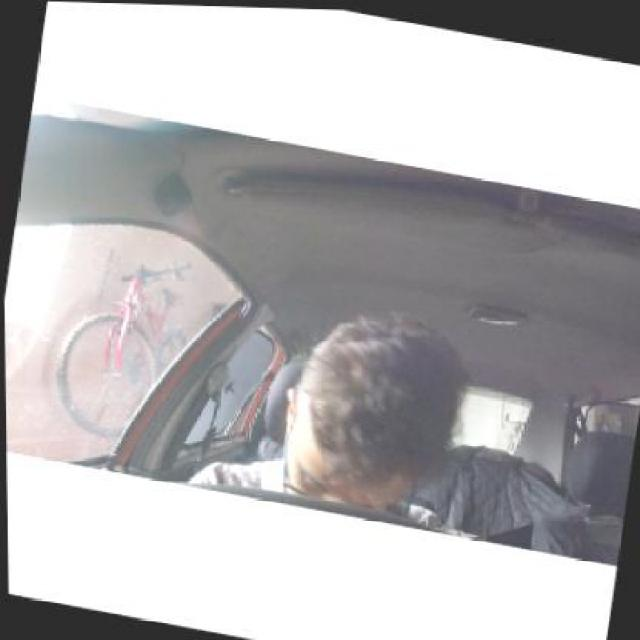drowsy: (274, 304, 470, 522)
